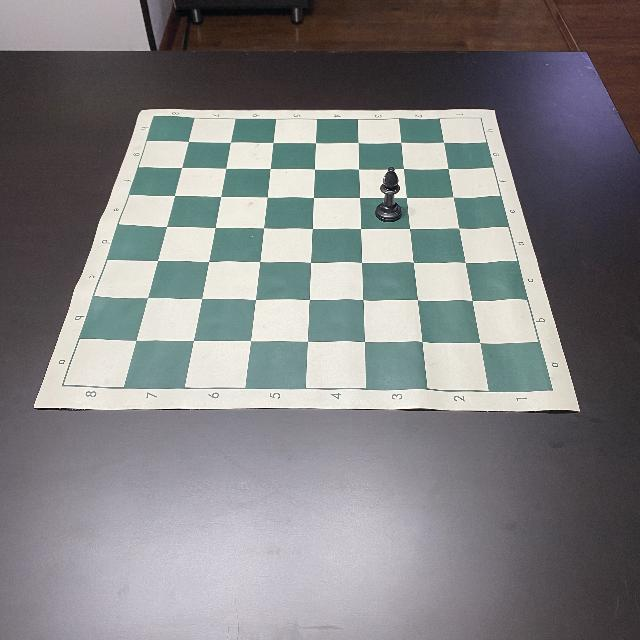black-bishop: (374, 165, 402, 222)
board: (33, 108, 580, 414)
